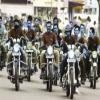motorcycles: (64, 46, 80, 99), (10, 38, 25, 90), (43, 45, 57, 88), (23, 40, 38, 80), (89, 49, 98, 90)
